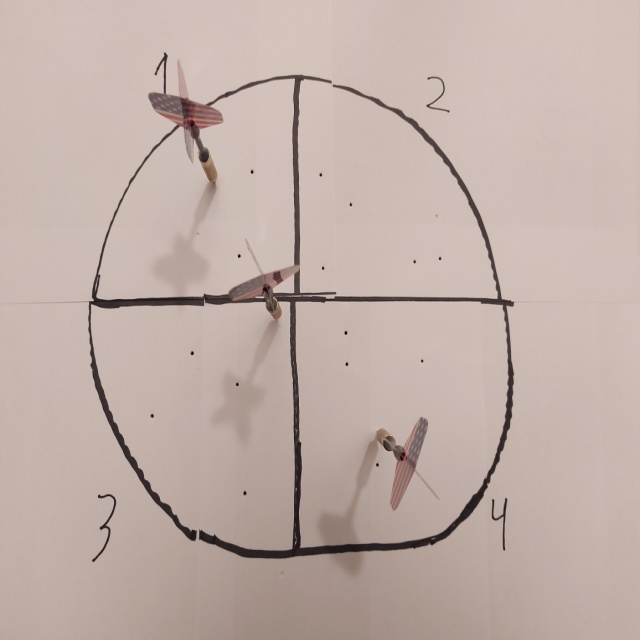Dart: (140, 56, 232, 200), (219, 232, 301, 332), (368, 410, 446, 510)
